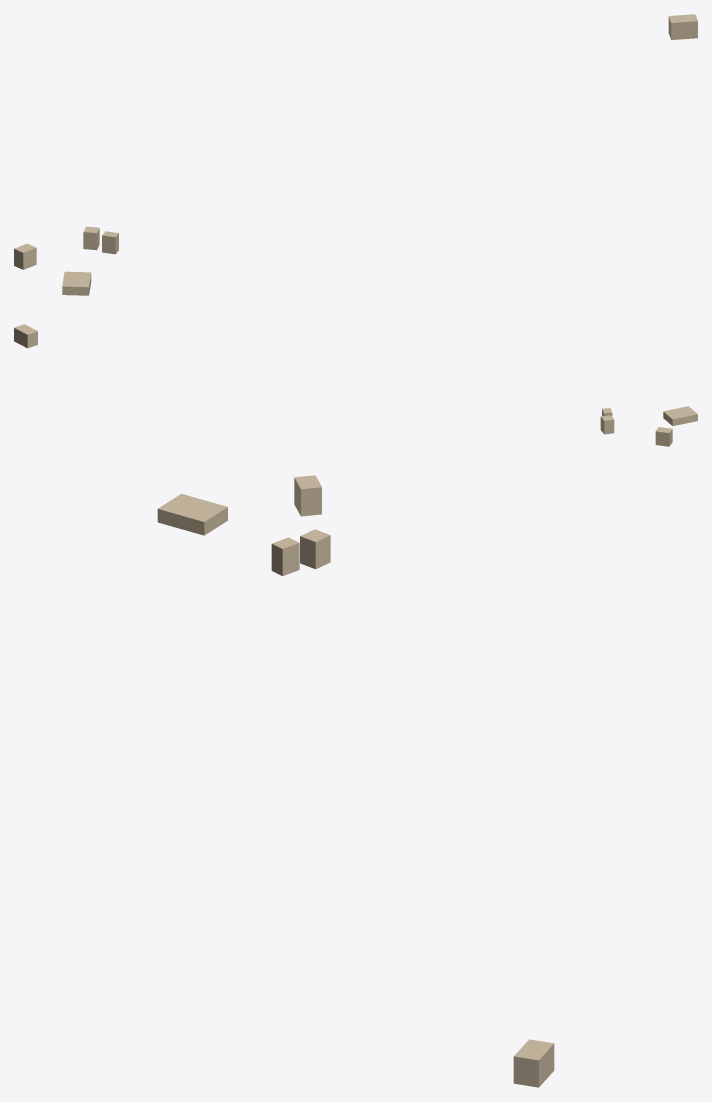
The model's file is -8_9-estimated-coarse.glb.
3 renders of one model, top to bottom at view 1: azimuth 30°, elevation 25°; view 2: azimuth 150°, elevation 25°; view 3: azimuth 270°, elevation 25°, orthographic. The views are drawn at different scales.
Size of the model in its own units: 553 by 12 by 159.
